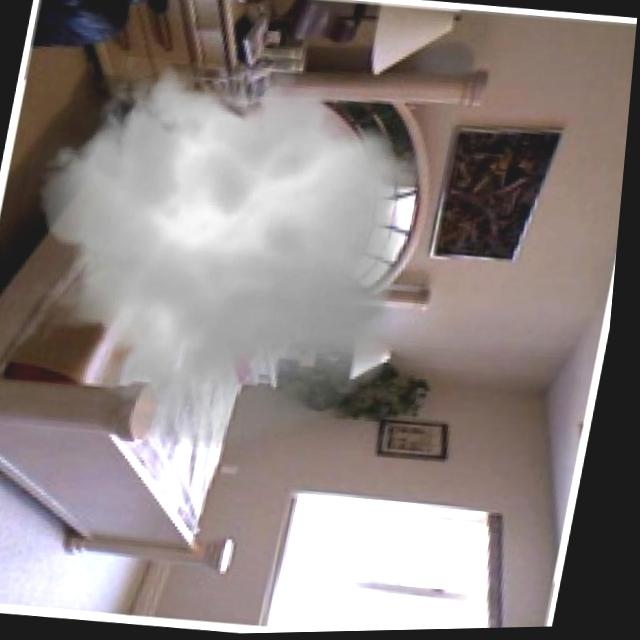Smoke: (0, 33, 464, 479)
